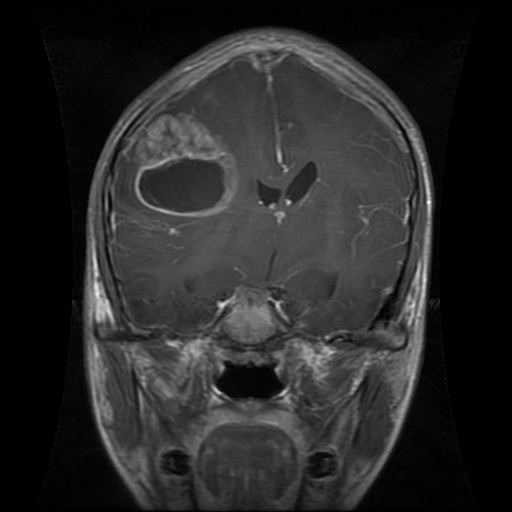glioma: (132, 111, 240, 218)
